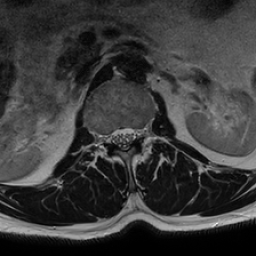CCS_normal: (118, 118, 126, 156)
LFS_normal: (136, 120, 145, 145)
LLS_normal: (126, 120, 136, 149)
RFS_normal: (102, 122, 110, 152)
RLS_normal: (110, 121, 118, 149)
